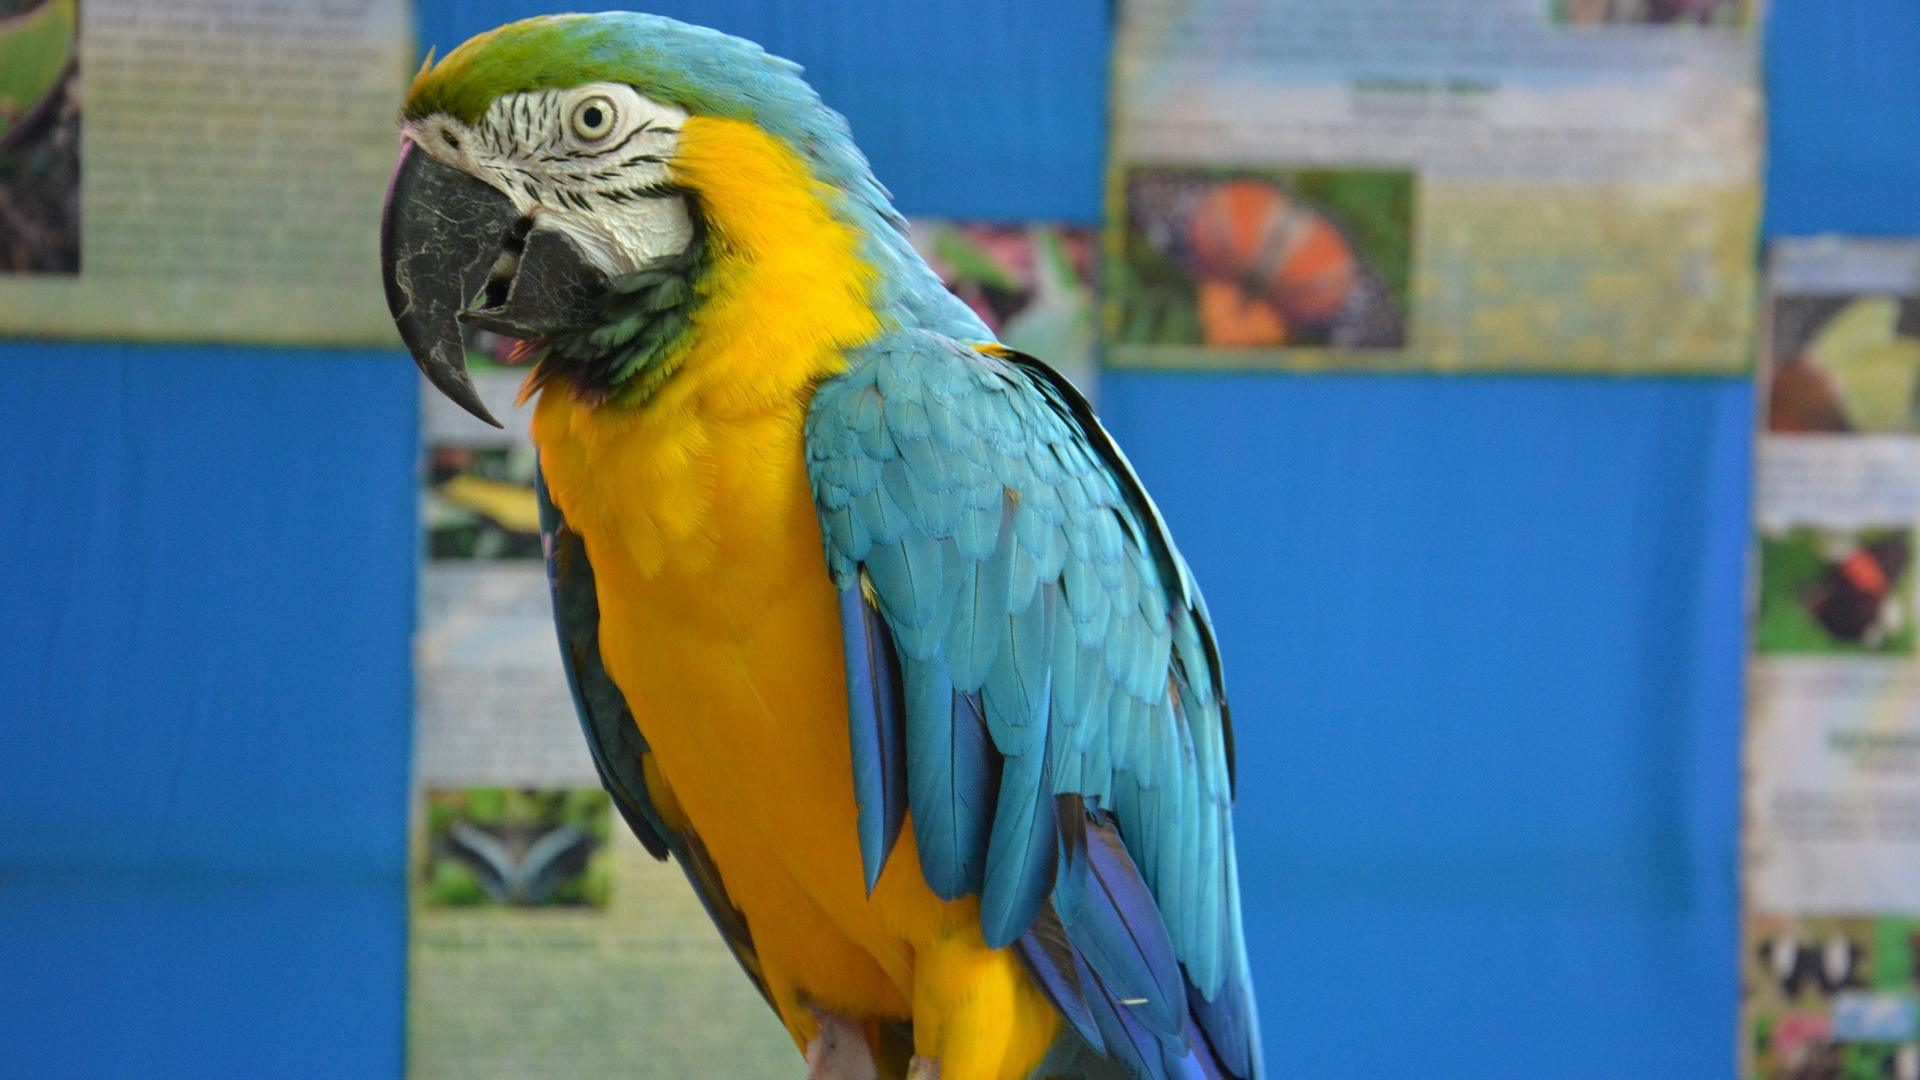bird: (376, 11, 1265, 1077)
